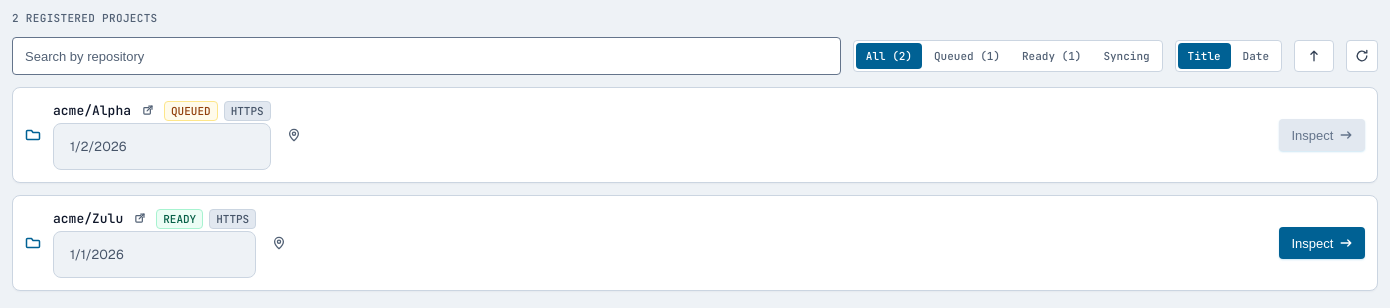
Scenario: ProjectList › narrows by search text
The width and height of the screenshot is (1390, 308).
Expected: the button "acme/Zulu" is shown, x1=53 y1=210 x2=123 y2=227
Type "alpha" into the field with placeholder "Search by repository" at (426, 56), box x1=12 y1=37 x2=841 y2=75
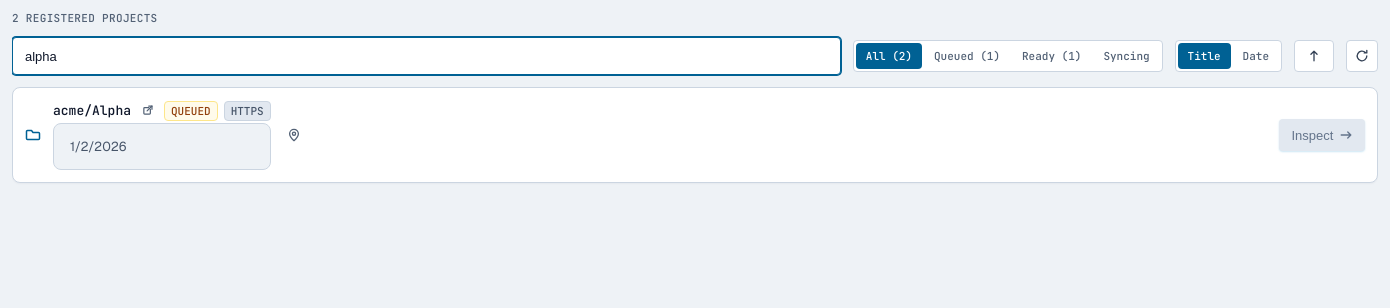
Expected: the button "acme/Alpha" is shown, x1=53 y1=102 x2=131 y2=119
Expected: the button "acme/Zulu" is gone
